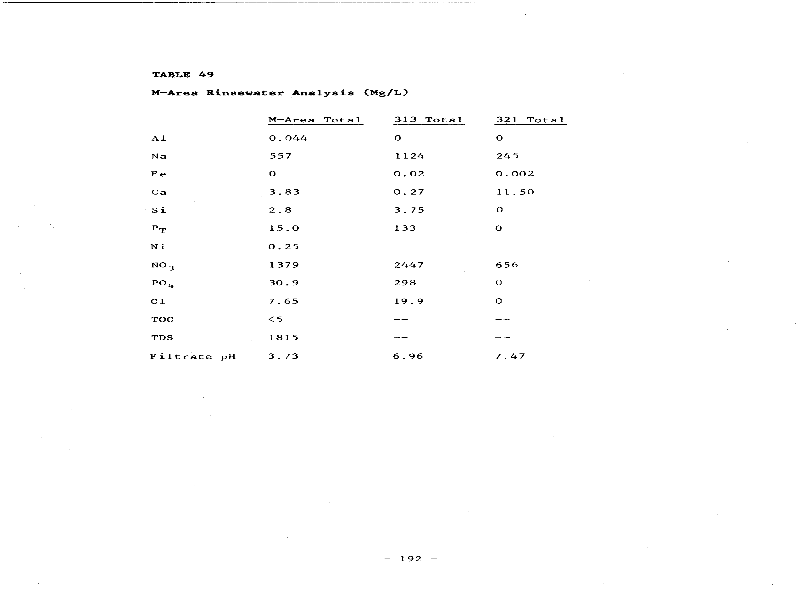table: (141, 84, 594, 379)
